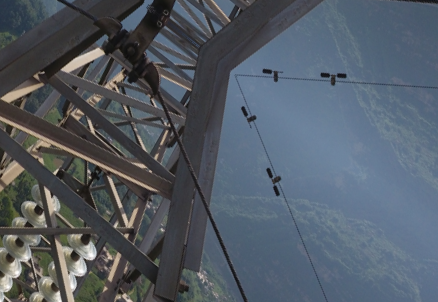damper: (264, 164, 282, 198), (319, 69, 347, 87)
damper_defect: (239, 103, 257, 130), (261, 66, 285, 82)
